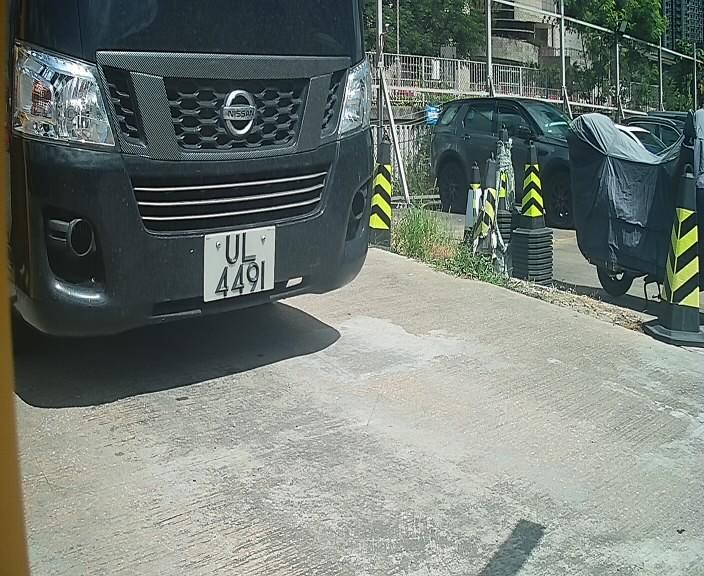License Plate: (195, 224, 280, 301)
